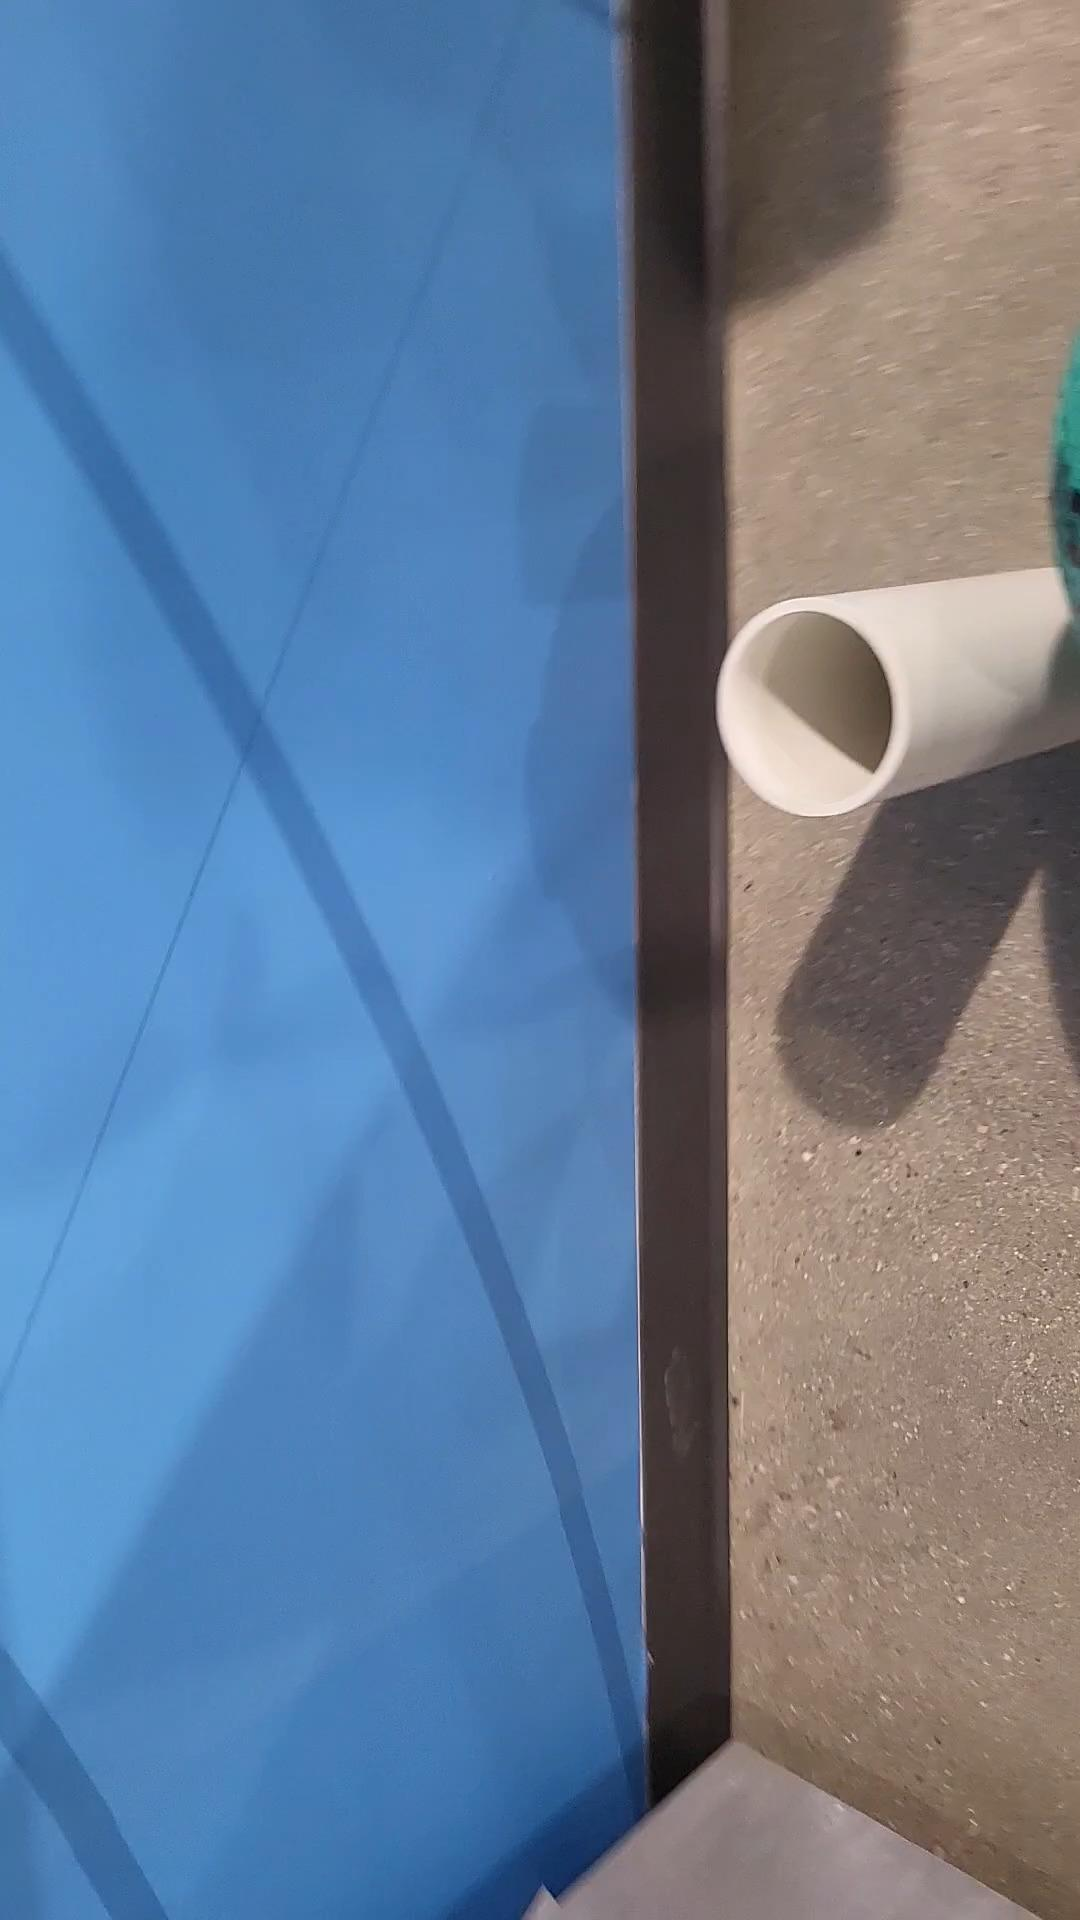coral: (720, 560, 1080, 812)
